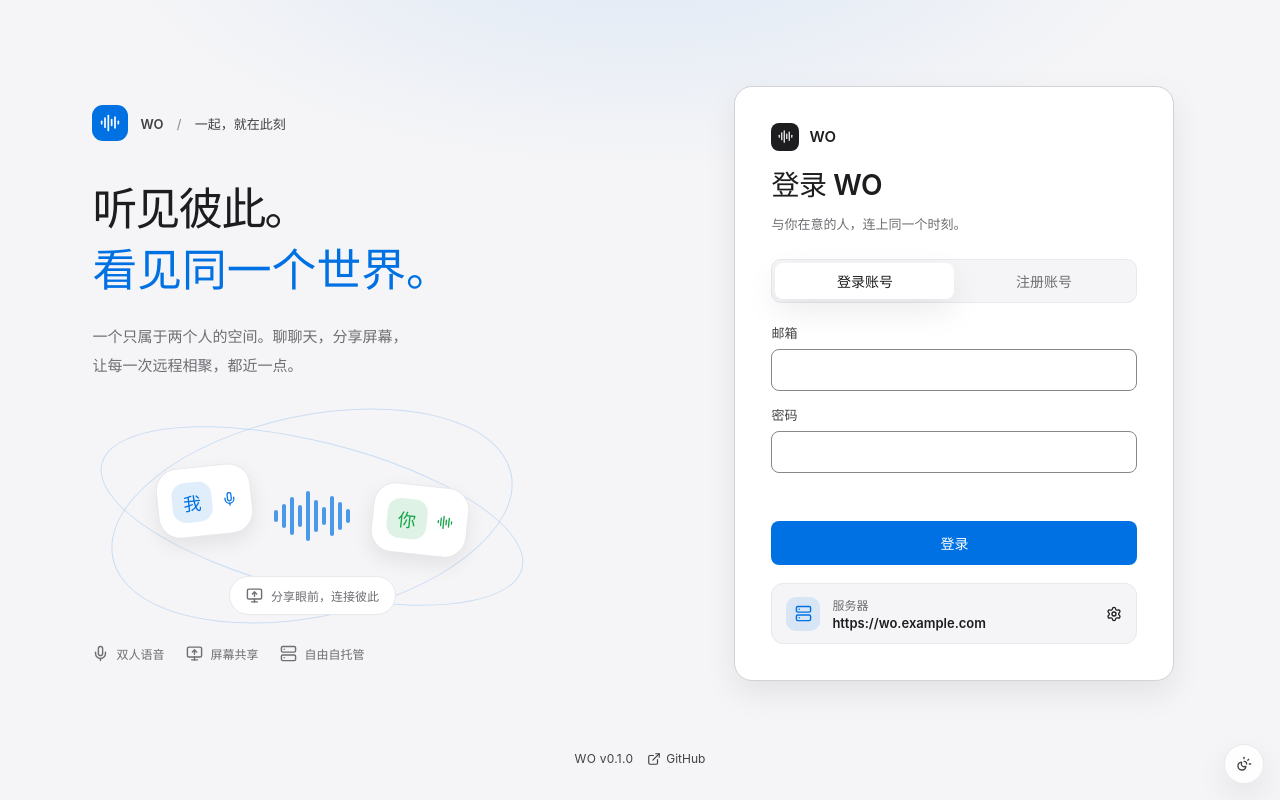
incoming invitation modal ownership › moves focus above an existing server dialog and restores each dialog in order
Expected: the 1st heading named "登录 WO" is shown, [771,168,882,202]
Click the button named "配置服务器": x=954, y=614 [771,583,1137,644]
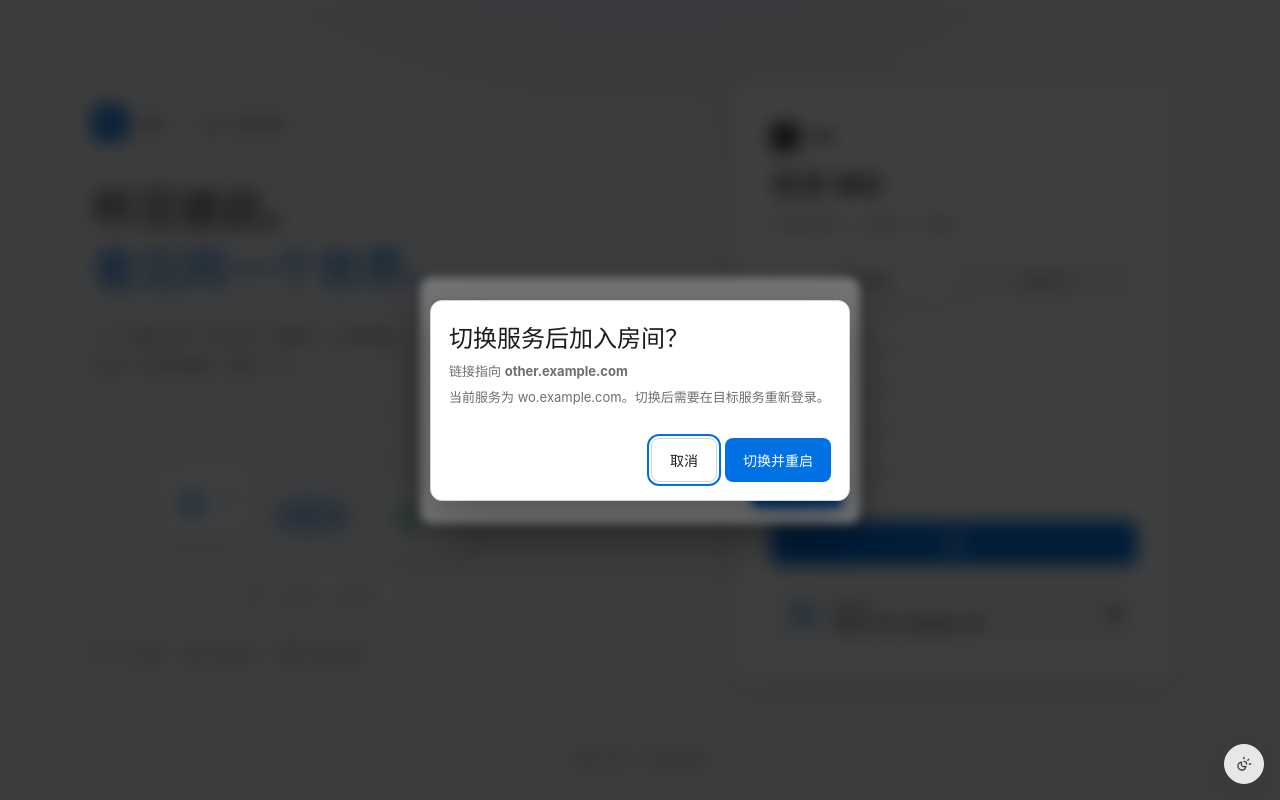
Press Shift+Tab
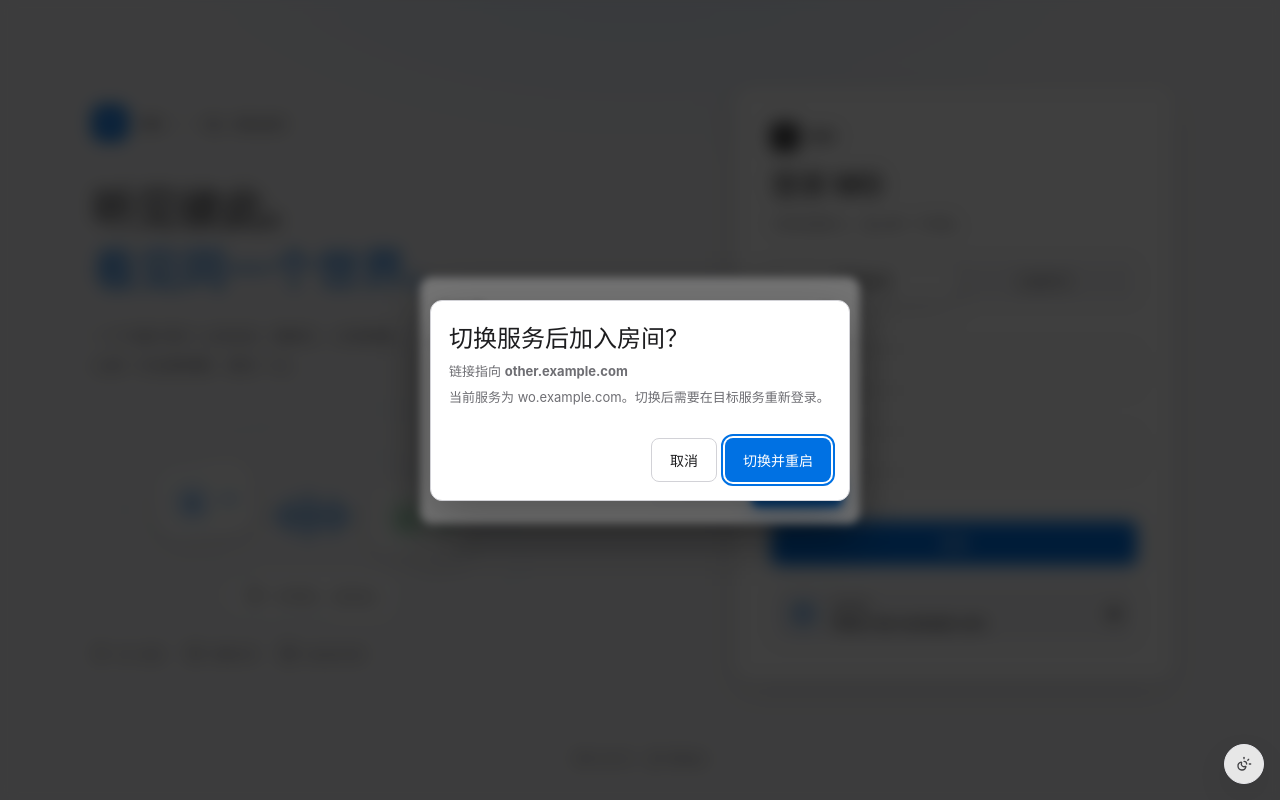
Press Tab
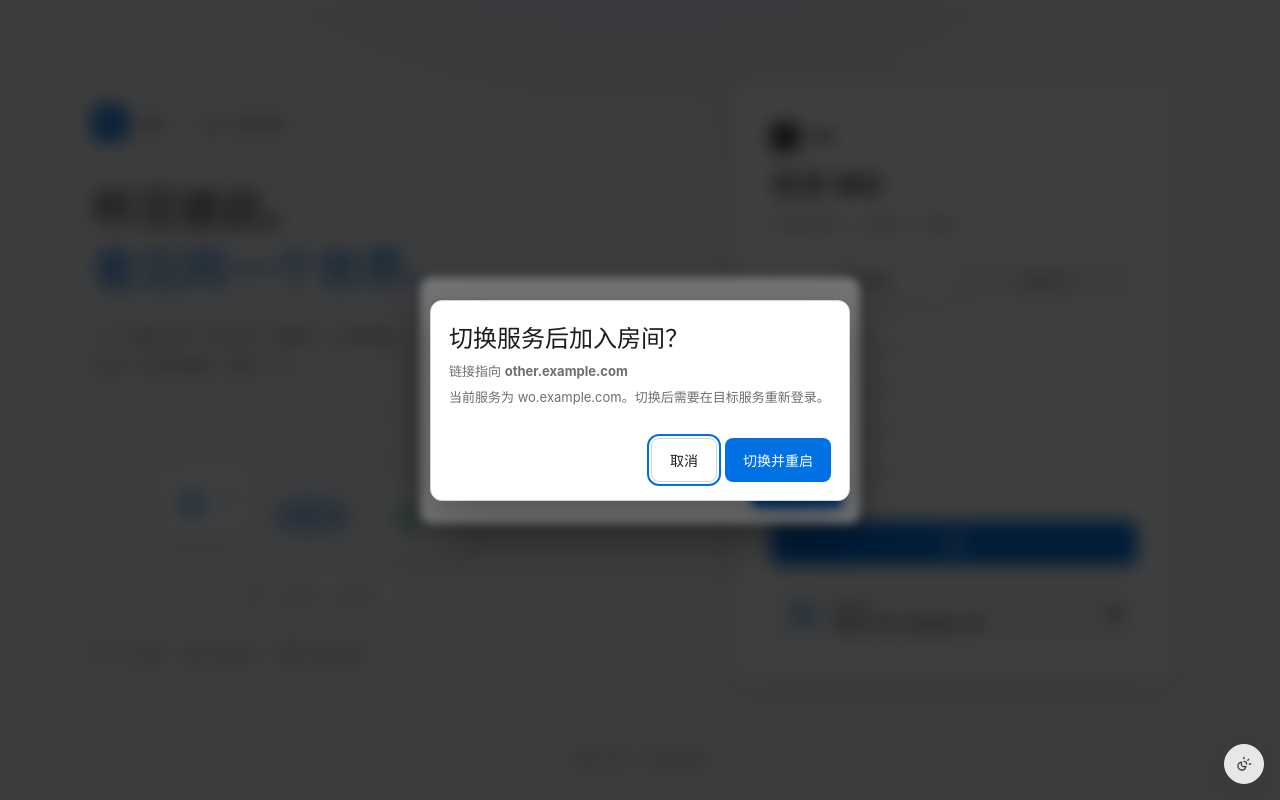
Press Escape
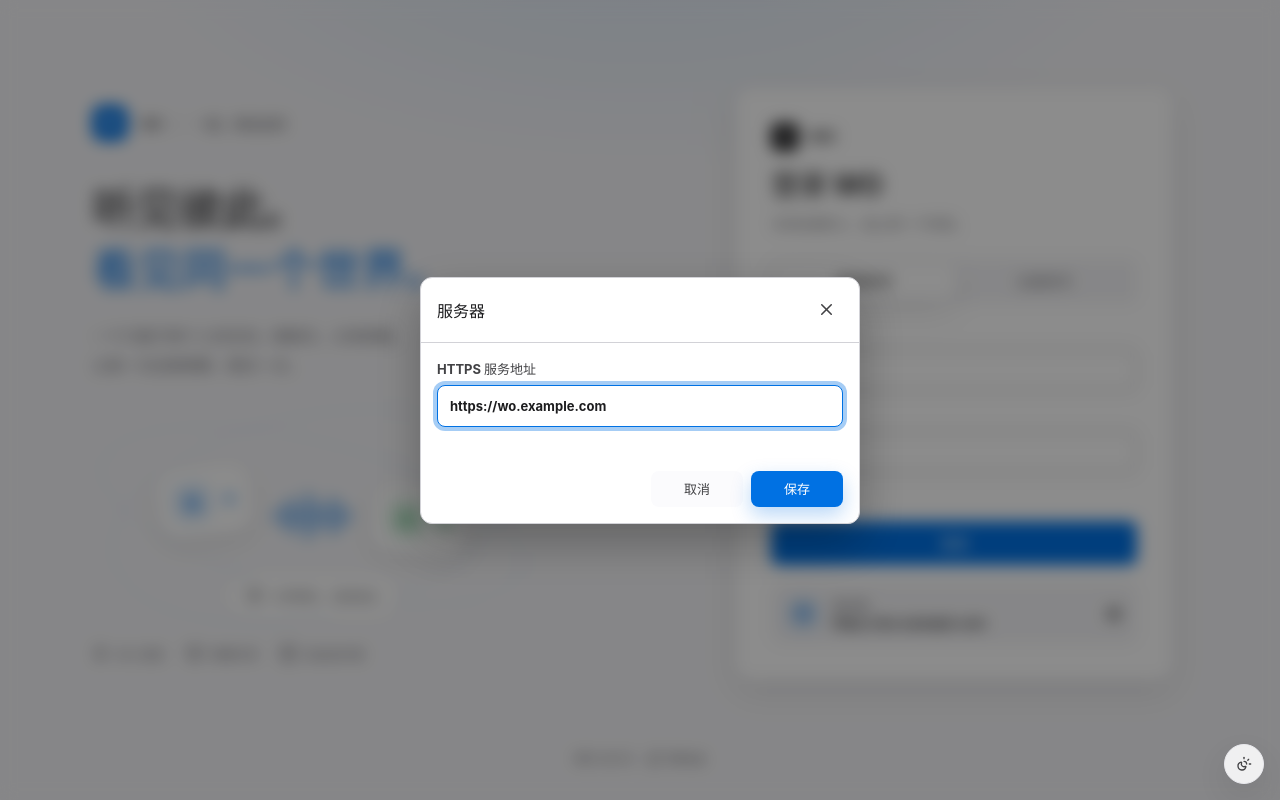
Expected: the dialog "切换服务后加入房间？" is not shown
Expected: the dialog named "服务器" is shown, [420,276,860,524]
Press Escape
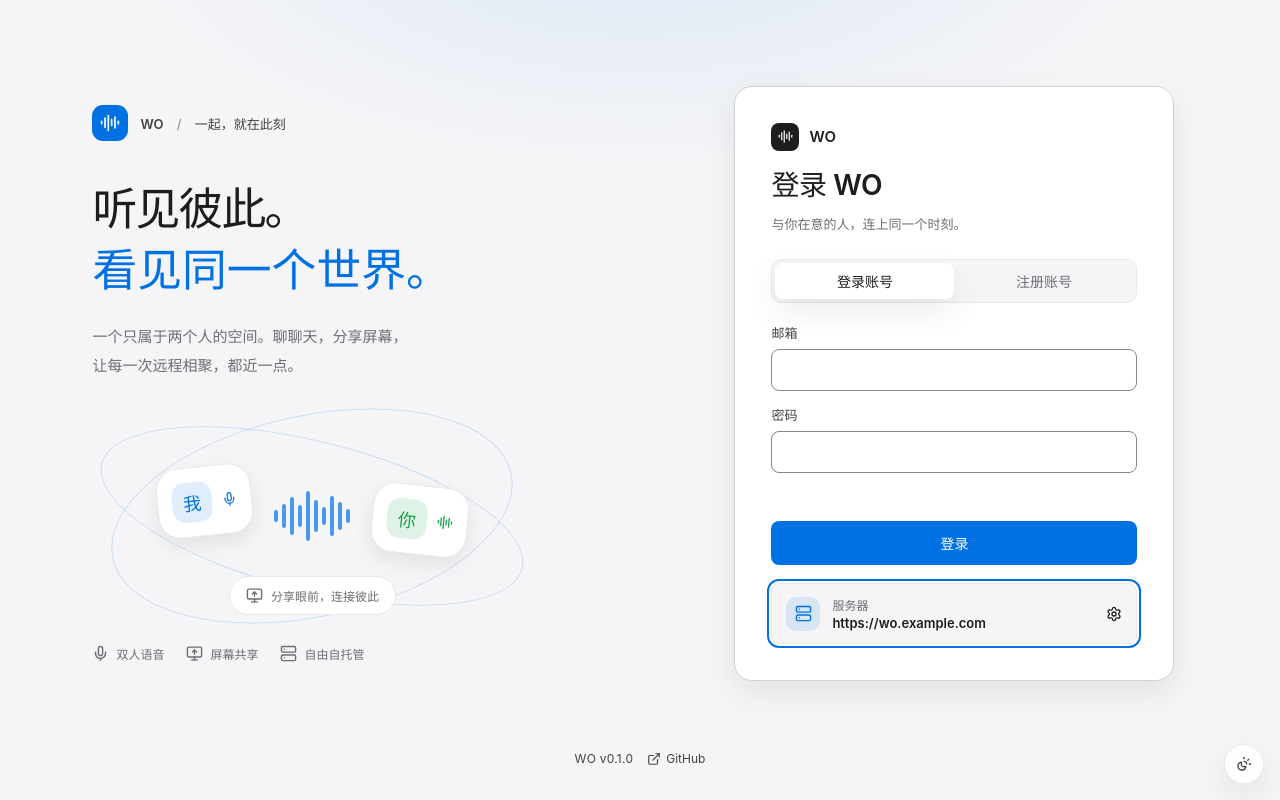
Expected: the dialog is gone
